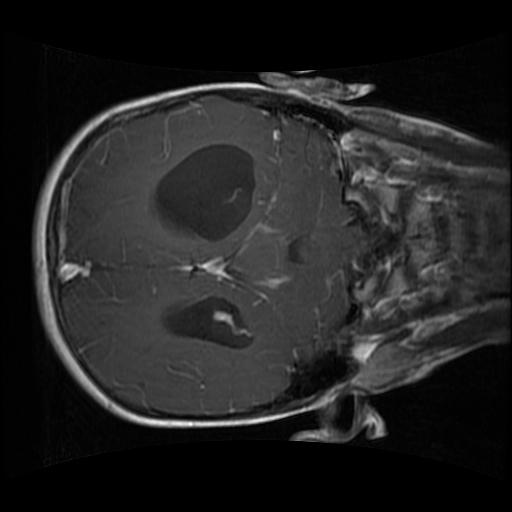glioma: (147, 139, 293, 293)
